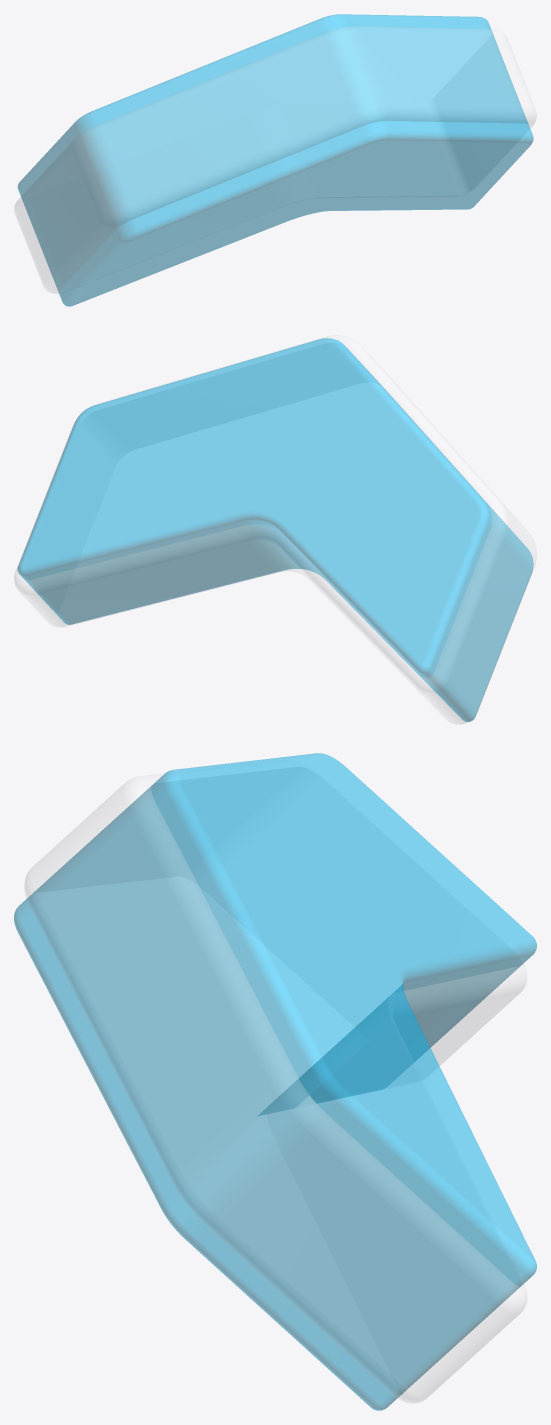
The model's file is arrow.gltf.
3 renders of one model, top to bottom at view 1: azimuth 30°, elevation 25°; view 2: azimuth 150°, elevation 25°; view 3: azimuth 270°, elevation 25°, orthographic. The views are drawn at different scales.
Visible parts, largest first — view 1: 挤压.2-材质.1, 挤压.2-材质; view 2: 挤压.2-材质.1, 挤压.2-材质; view 3: 挤压.2-材质.1, 挤压.2-材质.
Boxes of the visible parts, x1,y1,x2,y2 form: 挤压.2-材质.1: (17, 14, 533, 306); 挤压.2-材质: (14, 27, 536, 293); 挤压.2-材质.1: (17, 338, 533, 721); 挤压.2-材质: (14, 335, 536, 724); 挤压.2-材质.1: (14, 753, 536, 1410); 挤压.2-材质: (25, 774, 526, 1402).
Bounding box in the file's own units: 40 × 25.37 × 25.37.
